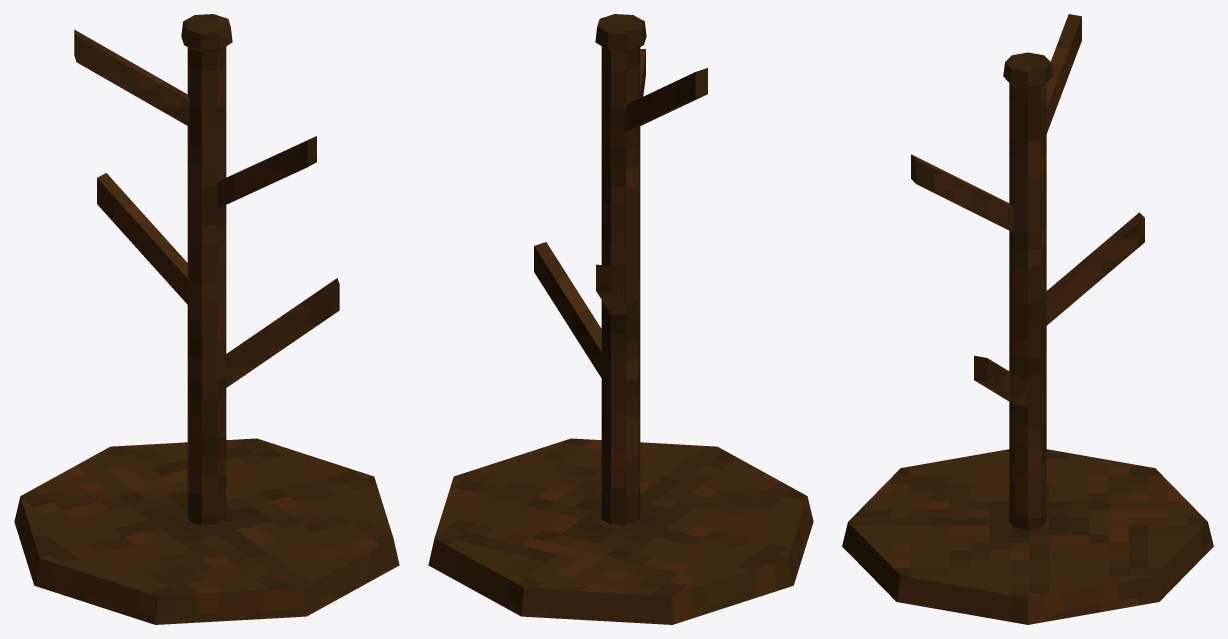
The model's file is SuporteChapeu.fbx.
The picture shows the model from 3 angles, left to right: view 1: azimuth 30°, elevation 25°; view 2: azimuth 150°, elevation 25°; view 3: azimuth 270°, elevation 25°; orthographic projection. The views are drawn at different scales.
Visible parts, largest first — view 1: Cylinder.003; view 2: Cylinder.003; view 3: Cylinder.003.
Boxes of the visible parts, left/top/right/bottom form: Cylinder.003: left=14, top=14, right=399, bottom=624; Cylinder.003: left=428, top=14, right=813, bottom=624; Cylinder.003: left=842, top=14, right=1213, bottom=624.
Bounding box in the file's own units: 117 × 168 × 117.
Materials: 1 (1 with a texture image).
